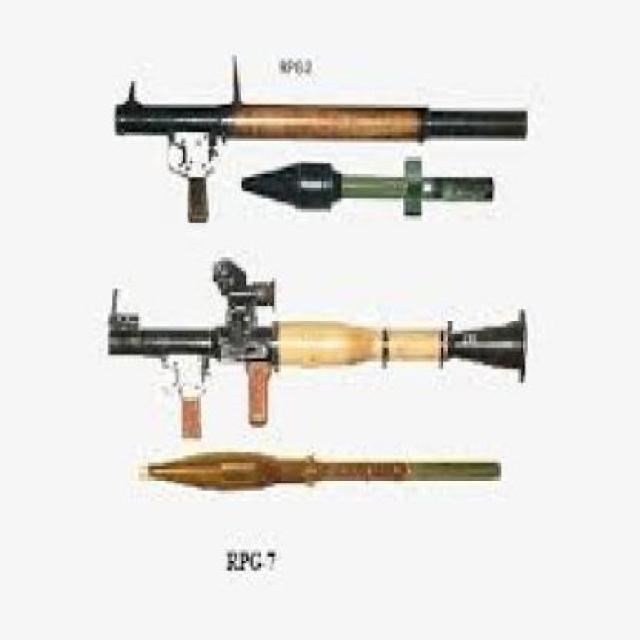weapon: (67, 255, 556, 522), (75, 34, 552, 246), (137, 437, 503, 498), (231, 142, 507, 220)
